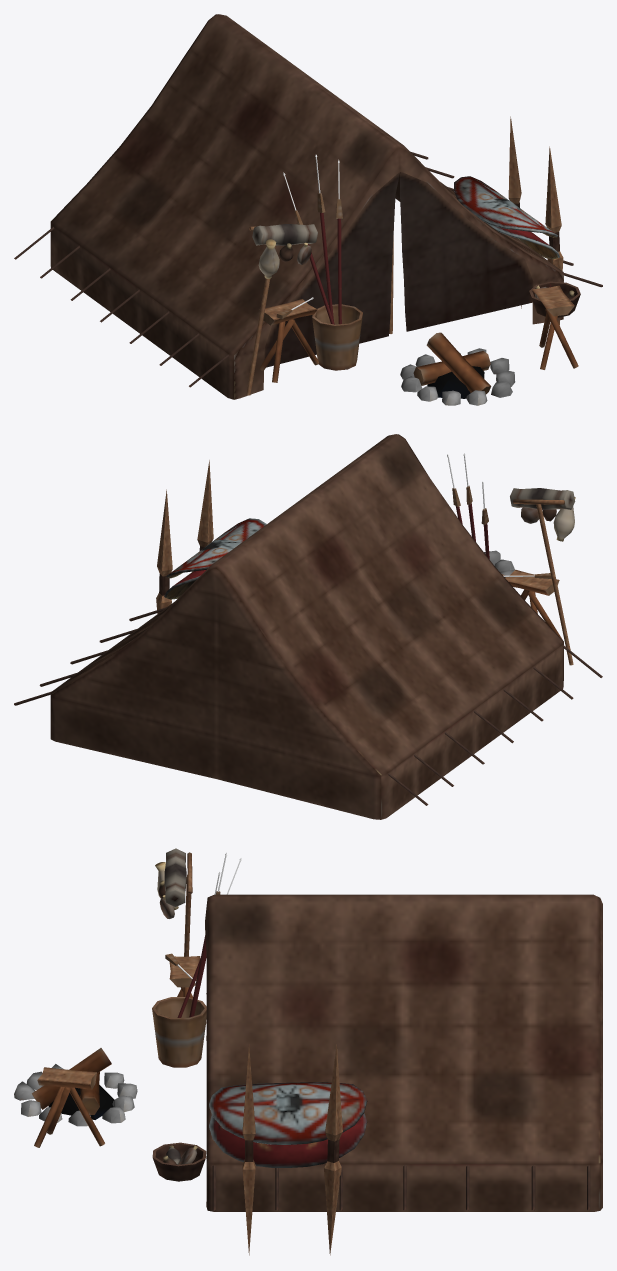
Rendered from rome_tent_1.fbx.
The picture shows the model from 3 angles, top to bottom: view 1: azimuth 30°, elevation 25°; view 2: azimuth 150°, elevation 25°; view 3: azimuth 270°, elevation 25°; orthographic projection. The views are drawn at different scales.
Visible parts, largest first — view 1: rome__tent_1_LOD0; view 2: rome__tent_1_LOD0; view 3: rome__tent_1_LOD0.
Part boxes in pixels (x1,y1,x2,y2): rome__tent_1_LOD0: (14, 14, 602, 405); rome__tent_1_LOD0: (14, 434, 602, 819); rome__tent_1_LOD0: (14, 848, 602, 1255).
Size of what is drawn, in the model's own units: 412 by 209 by 359.
